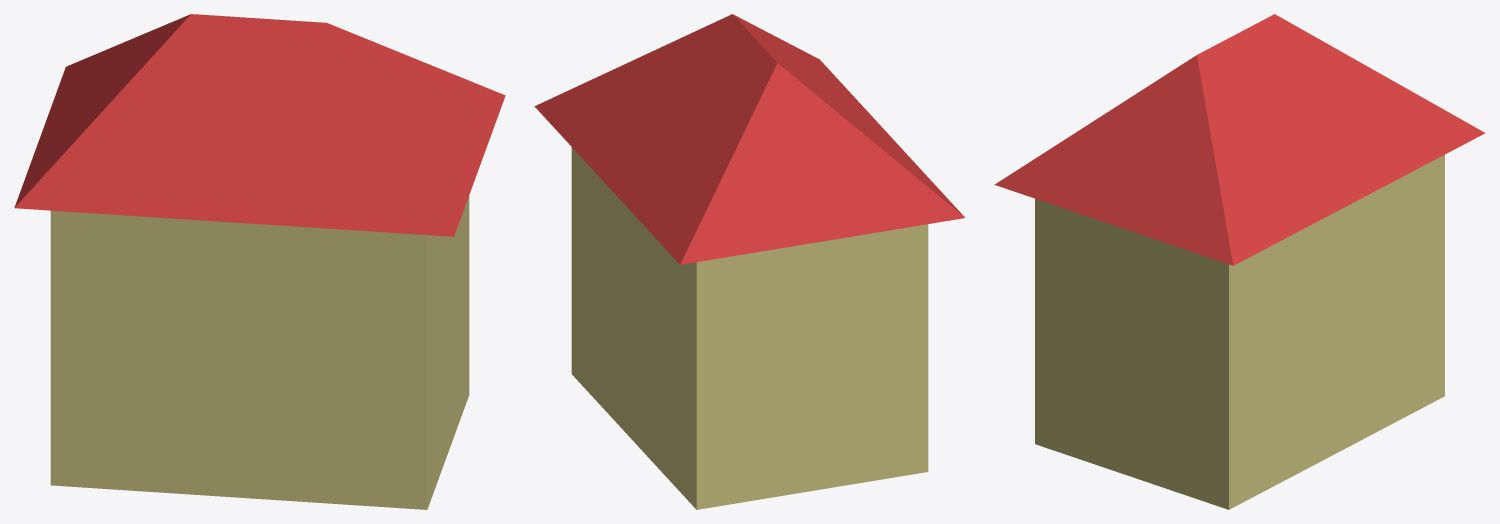
3 renders of one model, left to right at view 1: azimuth 30°, elevation 25°; view 2: azimuth 150°, elevation 25°; view 3: azimuth 270°, elevation 25°, orthographic. The views are drawn at different scales.
Visible parts, largest first — view 1: group_5, group_3, group_4; view 2: group_5, group_3, group_4; view 3: group_5, group_3, group_4.
Part boxes in pixels (box(x1,y1,x2,y2)): group_5: box(50, 196, 469, 509); group_3: box(14, 14, 505, 236); group_4: box(14, 168, 453, 236); group_5: box(571, 147, 928, 509); group_3: box(534, 14, 964, 264); group_4: box(630, 51, 964, 264); group_5: box(1035, 155, 1444, 509); group_3: box(994, 14, 1484, 265); group_4: box(1330, 109, 1485, 173).
Size of the model in its own units: 17.5 by 16.99 by 14.66.
